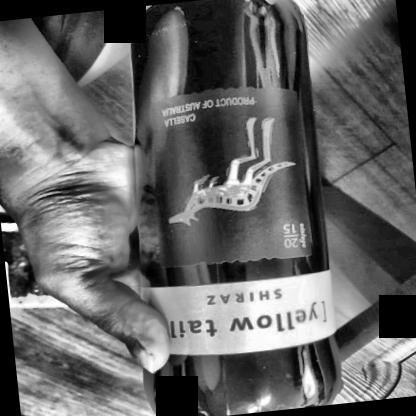yellowtail: (125, 80, 337, 362)
